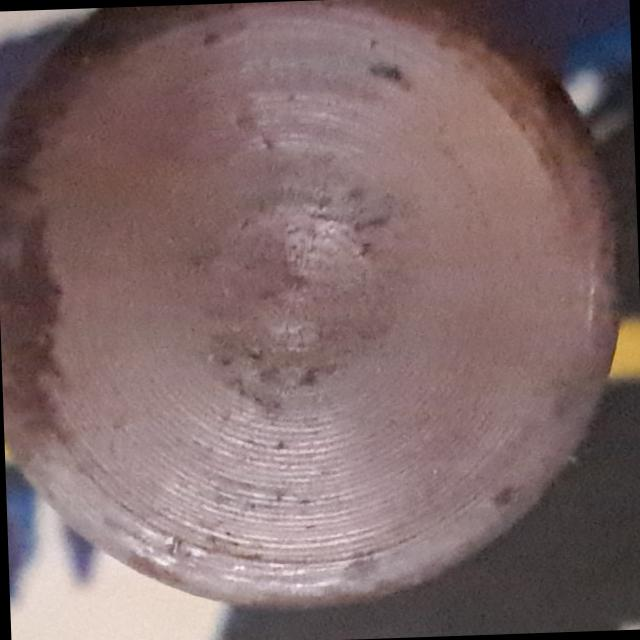planson: (0, 0, 627, 610)
